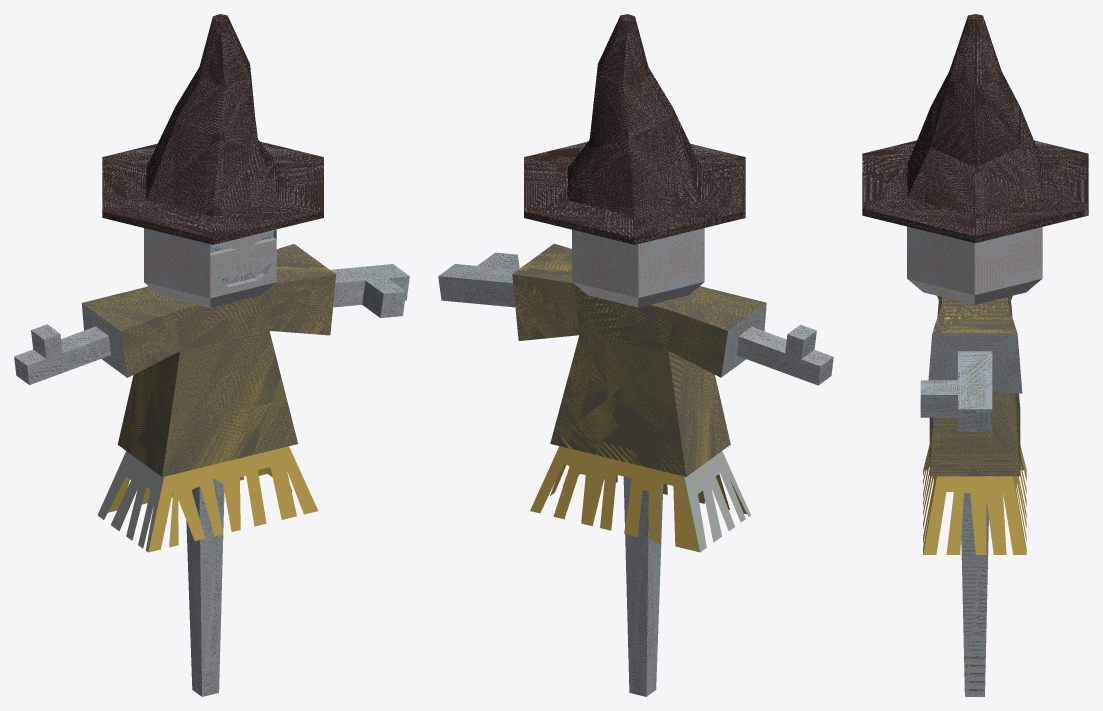
Rendered from Scarecrow_01.fbx.
The picture shows the model from 3 angles, left to right: view 1: azimuth 30°, elevation 25°; view 2: azimuth 150°, elevation 25°; view 3: azimuth 270°, elevation 25°; orthographic projection. The views are drawn at different scales.
Visible parts, largest first — view 1: Model; view 2: Model; view 3: Model.
Part boxes in pixels (x1,y1,x2,y2): Model: (14,14,409,696); Model: (438,14,833,696); Model: (862,14,1088,696).
Size of the model in its own units: 246 by 415 by 124.
